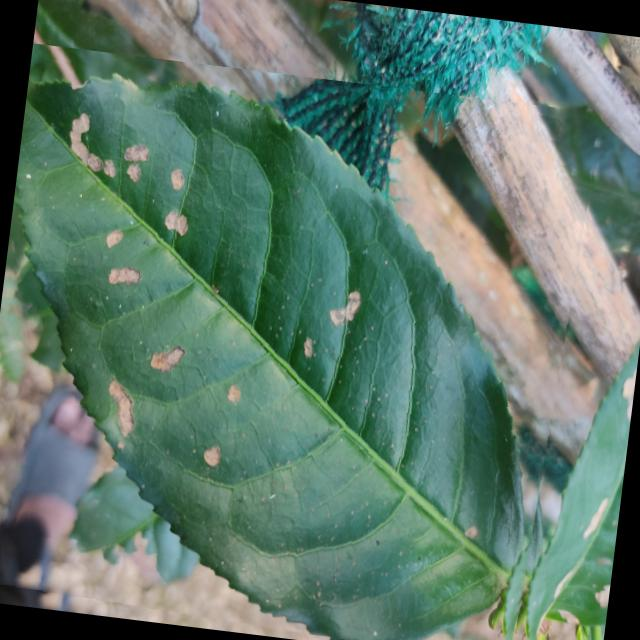Category D 7+ days, Not for Tea: (0, 42, 601, 640)
